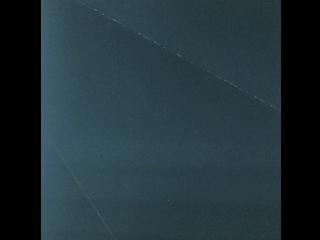crack: (80, 0, 281, 114), (40, 126, 116, 240)
